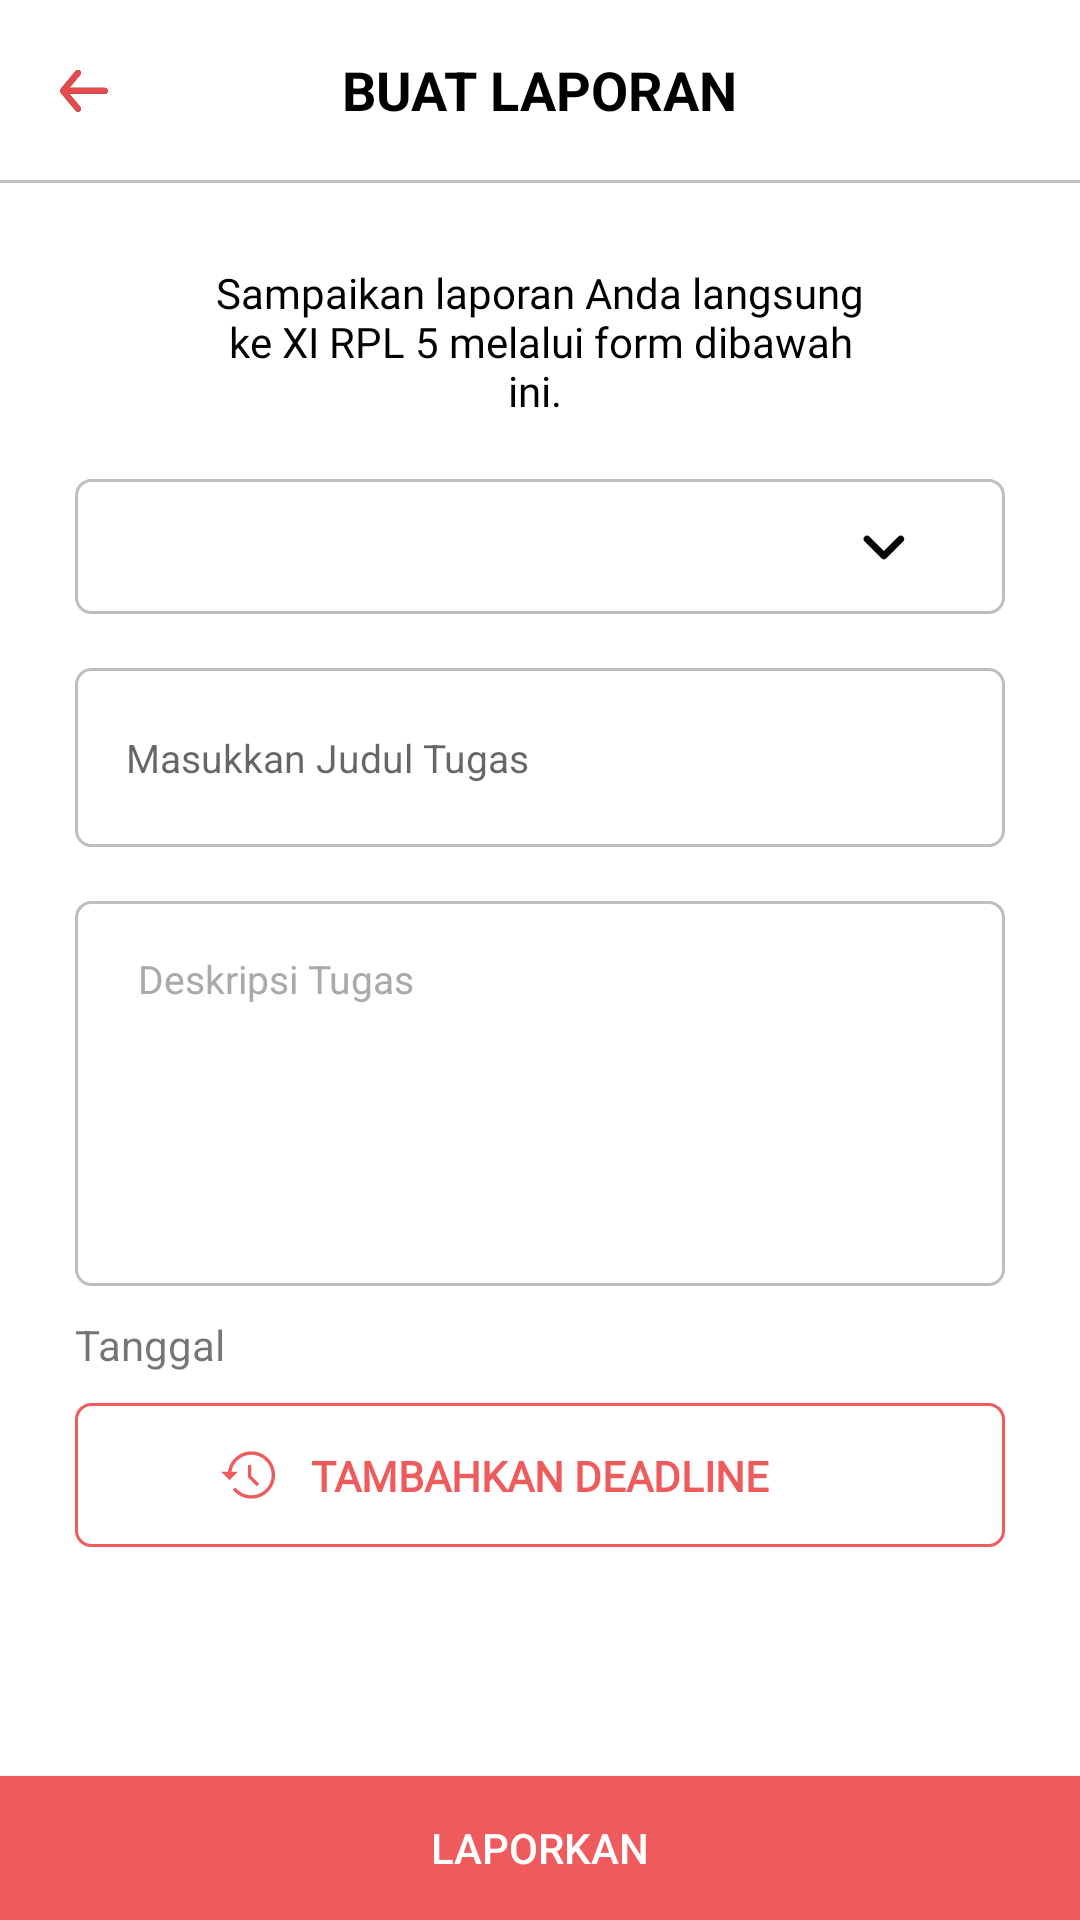

Where icons sit on this 1080w x 1920h app screen, as (x1, y1, x2, y2):
arrow left: (60, 70, 108, 112)
riwayat vektor: (221, 1451, 275, 1499)
